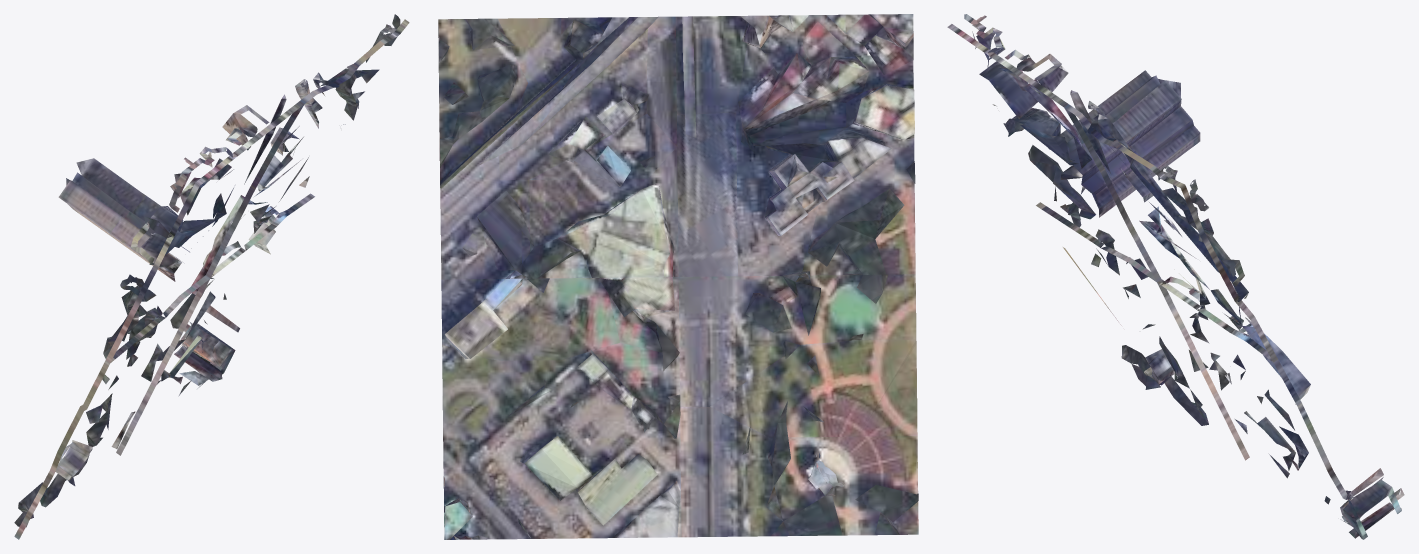
3 views of the same model, side by side, from view 1: azimuth 30°, elevation 25°; view 2: azimuth 150°, elevation 25°; view 3: azimuth 270°, elevation 25° (orthographic). The views are drawn at different scales.
Bounding box in the file's own units: 306 × 286 × 284.
Materials: 2 (2 with a texture image).
